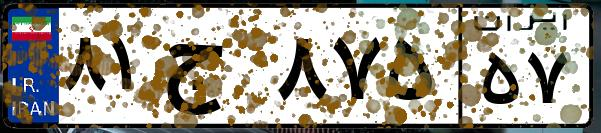1: (110, 28, 158, 98)
5: (385, 28, 445, 110), (475, 38, 525, 113)
7: (330, 28, 385, 110), (525, 38, 570, 115)
8: (270, 28, 330, 110), (57, 26, 110, 100)
ج: (158, 20, 270, 120)
